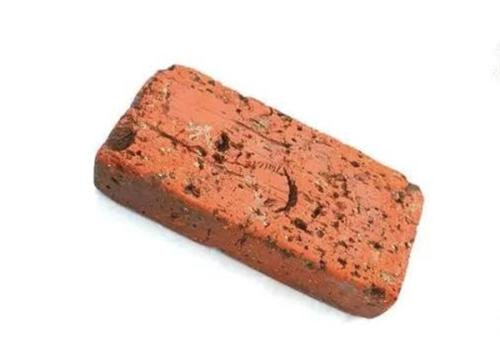brick: (85, 60, 425, 321)
